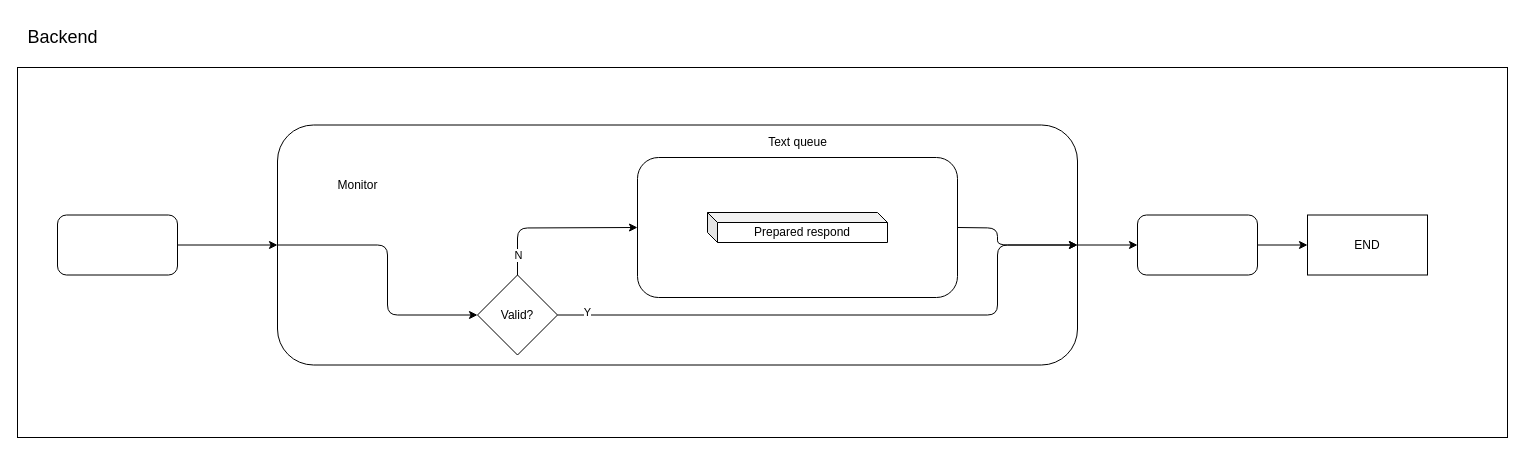
The diagram is 1525 pixels wide and 455 high, and some of its shapes have lost their labels. The box of each missing label's shape, as (x1, y1, x2, y2) in pixels:
Other Modules: (1136, 214, 1258, 275)
STT: (56, 214, 178, 275)
